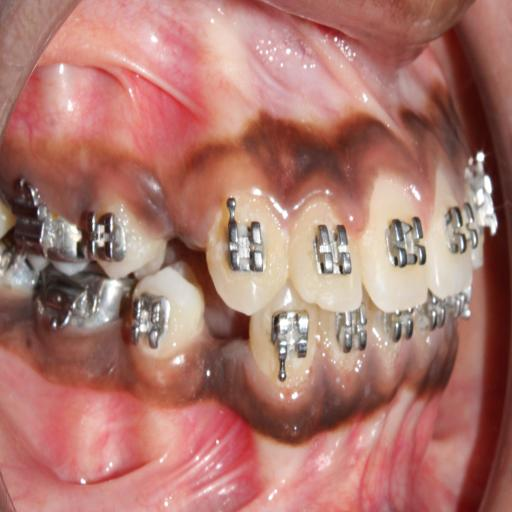correct_brace: (290, 201, 360, 308), (223, 198, 273, 272), (384, 209, 426, 273), (310, 219, 353, 281)
